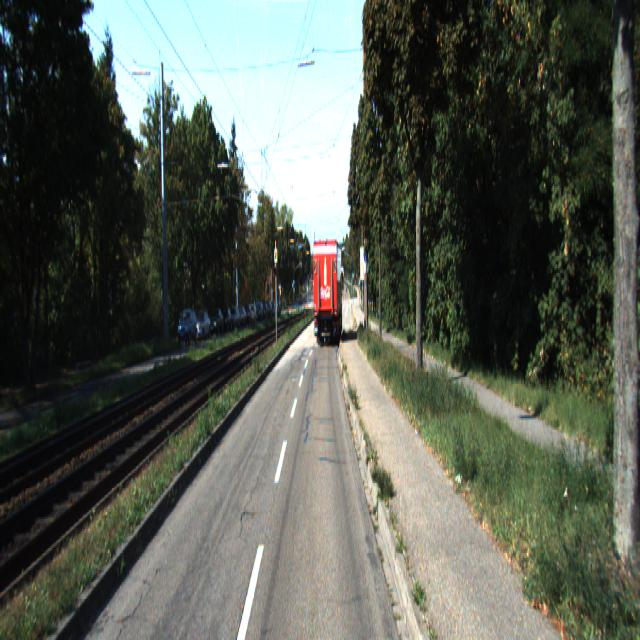Car: (311, 238, 344, 349), (176, 307, 198, 345), (189, 309, 210, 340)
